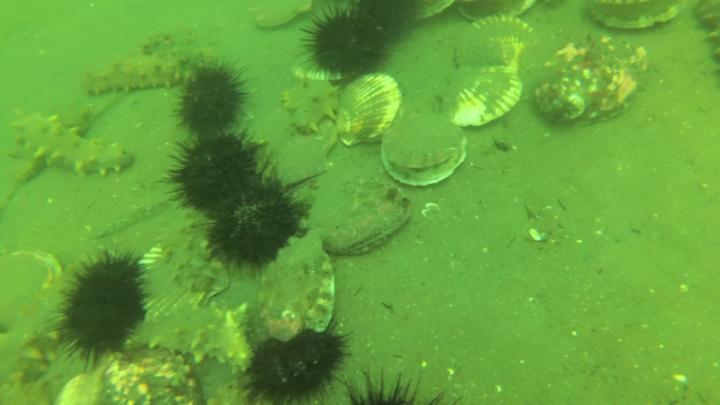echinus: (55, 251, 145, 364), (208, 175, 306, 268), (246, 329, 351, 404), (171, 135, 262, 218), (176, 59, 248, 142), (310, 11, 382, 83), (334, 374, 454, 405), (356, 1, 428, 39)
holothurian: (6, 105, 138, 181), (122, 304, 255, 373), (1, 327, 65, 405), (80, 51, 185, 98), (280, 84, 340, 134), (691, 1, 720, 77)
scallop: (137, 229, 230, 321), (382, 113, 471, 191), (438, 67, 525, 129), (336, 72, 401, 150), (452, 14, 538, 72), (1, 248, 65, 297), (581, 1, 684, 31), (456, 1, 541, 26), (248, 1, 316, 30), (290, 52, 342, 86), (415, 1, 459, 22)
